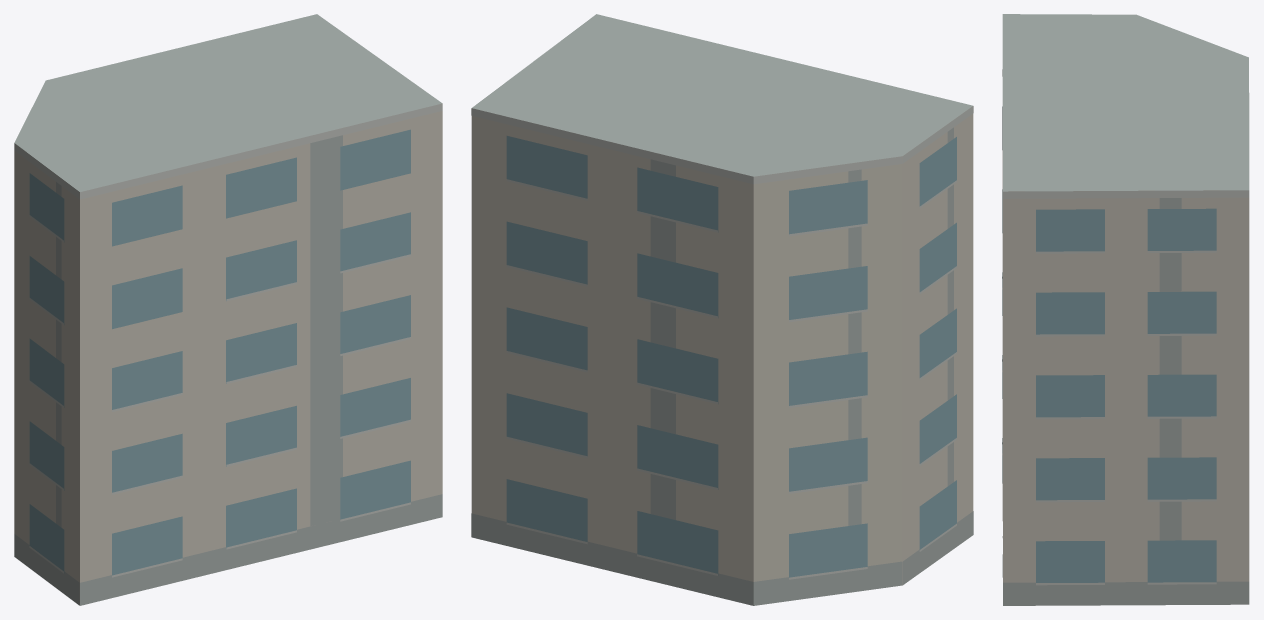
File: survey-upis-32509736.glb
3 renders of one model, left to right at view 1: azimuth 30°, elevation 25°; view 2: azimuth 150°, elevation 25°; view 3: azimuth 270°, elevation 25°, orthographic. The views are drawn at different scales.
Parts seen in each view (by area): view 1: survey-upis-32509736.tmp; view 2: survey-upis-32509736.tmp; view 3: survey-upis-32509736.tmp.
Boxes of the visible parts, bbox=[...] form: survey-upis-32509736.tmp: bbox=[14, 14, 442, 605]; survey-upis-32509736.tmp: bbox=[471, 14, 973, 605]; survey-upis-32509736.tmp: bbox=[1002, 14, 1249, 605].
Size of the model in its own units: 12.59 by 13.7 by 7.43.
